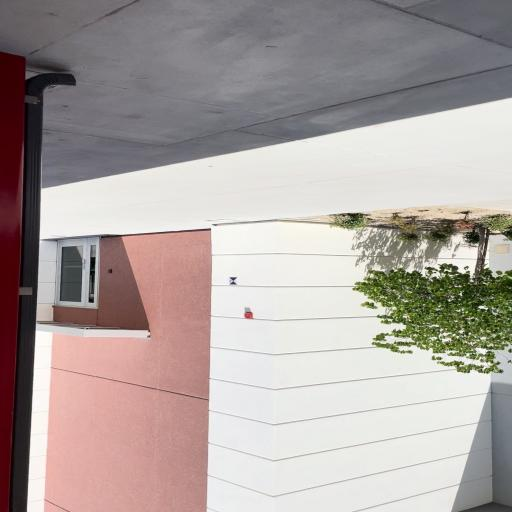target2: (229, 277, 237, 284)
